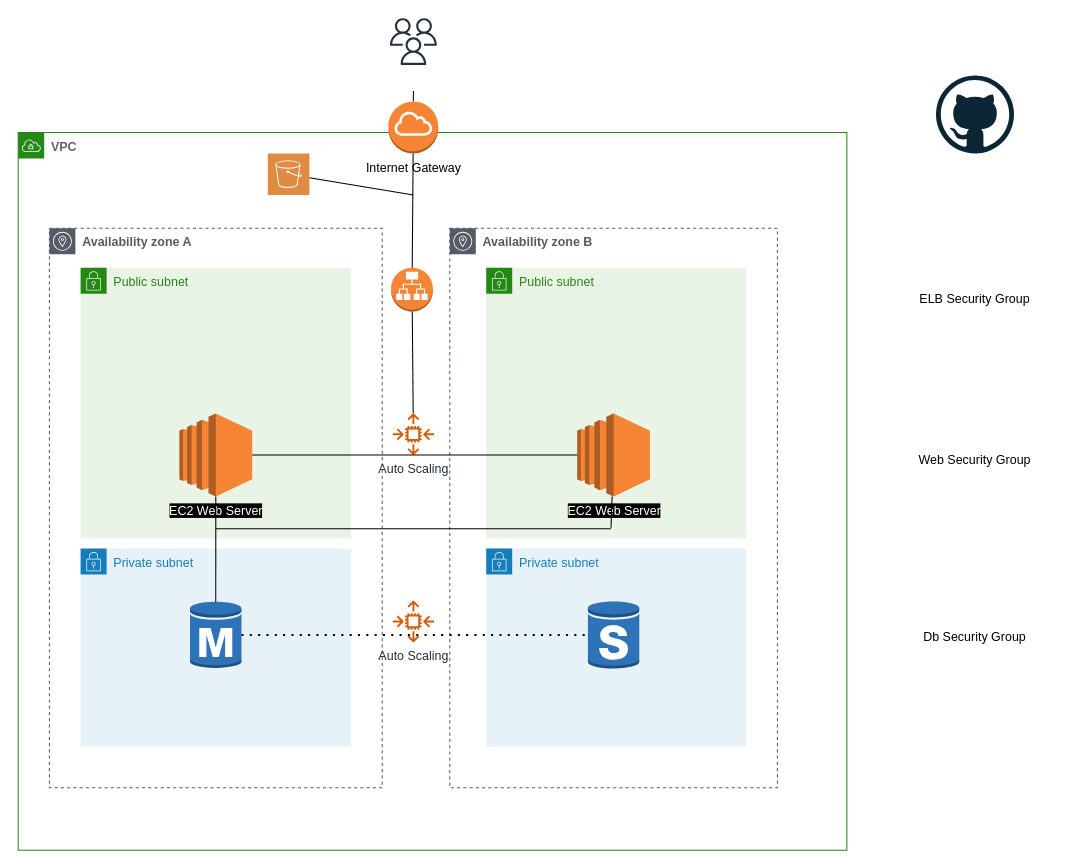
The diagram is 1076 pixels wide and 868 high, and some of its shapes have lost their labels. The shapes that lost their labels are listed below. From the top down, each one's centre as x and y in pixels, then its label:
(x=412, y=41): Users
(x=288, y=173): S3 Bucket
(x=411, y=289): Elastic Load Balancer
(x=215, y=634): Database Master
(x=613, y=634): DB Standby (Multi-AZ) Read Replica?
